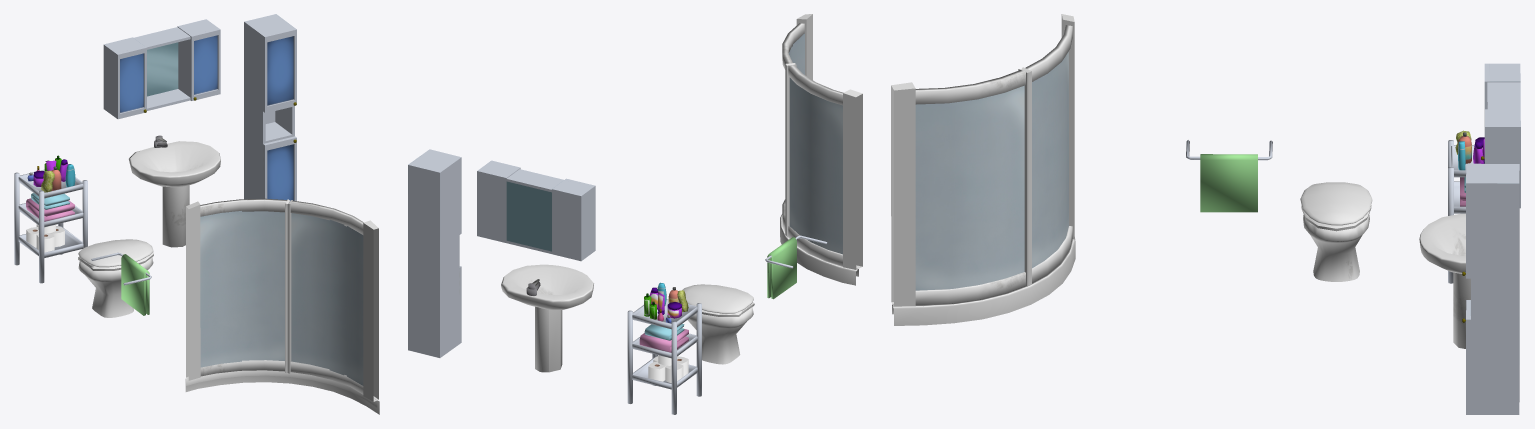
The model's file is Bathroom (1).fbx.
3 renders of one model, left to right at view 1: azimuth 30°, elevation 25°; view 2: azimuth 150°, elevation 25°; view 3: azimuth 270°, elevation 25°, orthographic. The views are drawn at different scales.
Visible parts, largest first — view 1: Shover_Cabin, Bathroom_Cabinet (1), Bathroom_mirror (1), Sink, Structure, Down, Towel_green, Top, Toilet_Paper, Towel_blu, Towel_Pink; view 2: Shover_Cabin, Bathroom_Cabinet (1), Bathroom_mirror (1), Sink, Structure, Down, Top, Towel_green, Toilet_Paper, Towel_blu; view 3: Shover_Cabin, Bathroom_Cabinet (1), Bathroom_mirror (1), Towel_green, Sink, Down, Top, Structure.
Boxes of the visible parts, x1,y1,x2,y2 form: Shover_Cabin: (185, 198, 379, 414); Bathroom_Cabinet (1): (244, 14, 296, 200); Bathroom_mirror (1): (103, 19, 220, 119); Sink: (128, 135, 220, 247); Structure: (14, 169, 87, 283); Down: (78, 252, 153, 317); Towel_green: (91, 252, 151, 315); Top: (78, 239, 153, 267); Toilet_Paper: (26, 224, 64, 252); Towel_blu: (26, 198, 74, 221); Towel_Pink: (31, 193, 70, 209); Shover_Cabin: (780, 14, 862, 285); Bathroom_Cabinet (1): (408, 149, 461, 357); Bathroom_mirror (1): (477, 160, 595, 261); Sink: (501, 264, 593, 372); Structure: (627, 299, 701, 414); Down: (687, 302, 754, 364); Top: (682, 284, 753, 313); Towel_green: (765, 235, 827, 299); Toilet_Paper: (648, 355, 688, 383); Towel_blu: (639, 329, 688, 352); Shover_Cabin: (891, 14, 1075, 325); Bathroom_Cabinet (1): (1462, 163, 1519, 414); Bathroom_mirror (1): (1481, 63, 1520, 208); Towel_green: (1186, 140, 1272, 212); Sink: (1419, 213, 1470, 348); Down: (1301, 205, 1371, 281); Top: (1300, 182, 1372, 225); Structure: (1448, 140, 1484, 283).
Bounding box in the file's own units: 3.31 × 2.19 × 5.06.
